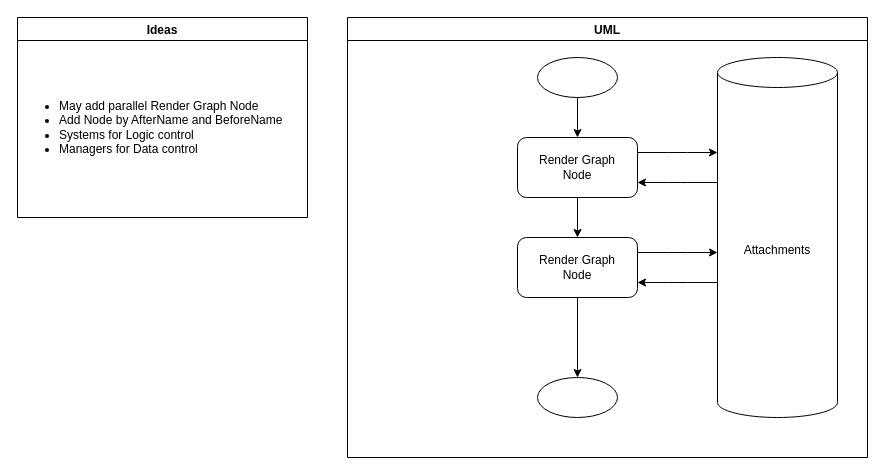
Image size: 885x475. Some labels were removed from this diagram. Each missing label, with the centre of its shape:
"End" goes at (577,397).
"Start" goes at (577,77).
